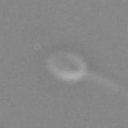normal: (87, 63, 127, 97)
